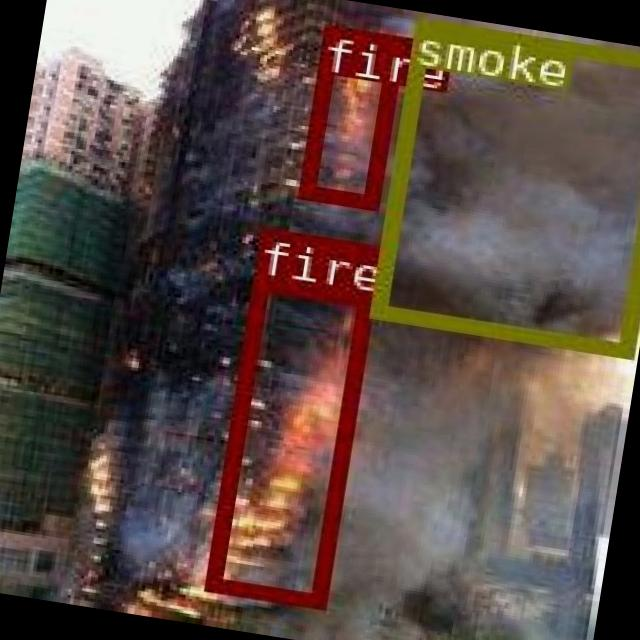fire: (204, 272, 372, 608), (297, 22, 403, 207)
smoke: (367, 15, 640, 354)
